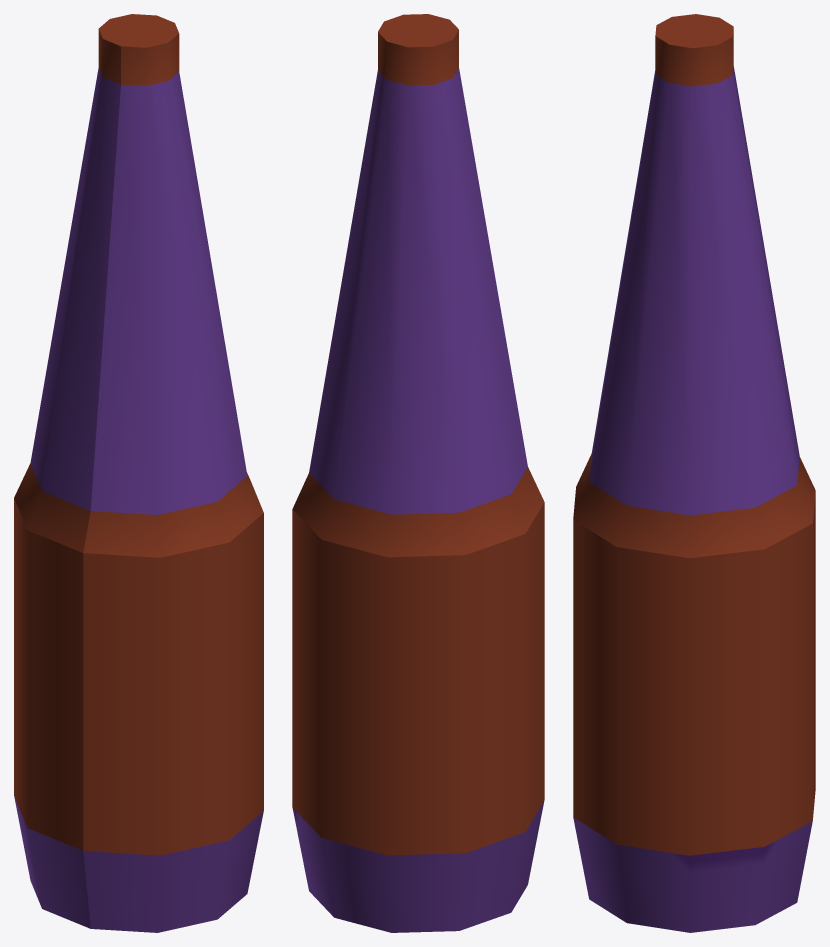
The model's file is bottle.fbx.
The picture shows the model from 3 angles, left to right: view 1: azimuth 30°, elevation 25°; view 2: azimuth 150°, elevation 25°; view 3: azimuth 270°, elevation 25°; orthographic projection.
Parts seen in each view (by area): view 1: bottle; view 2: bottle; view 3: bottle.
Boxes of the visible parts, box(x1,y1,x2,y2) form: bottle: box(14, 14, 263, 932); bottle: box(292, 14, 544, 932); bottle: box(573, 14, 815, 932).
Bounding box in the file's own units: 6.82 × 25.55 × 6.57.
